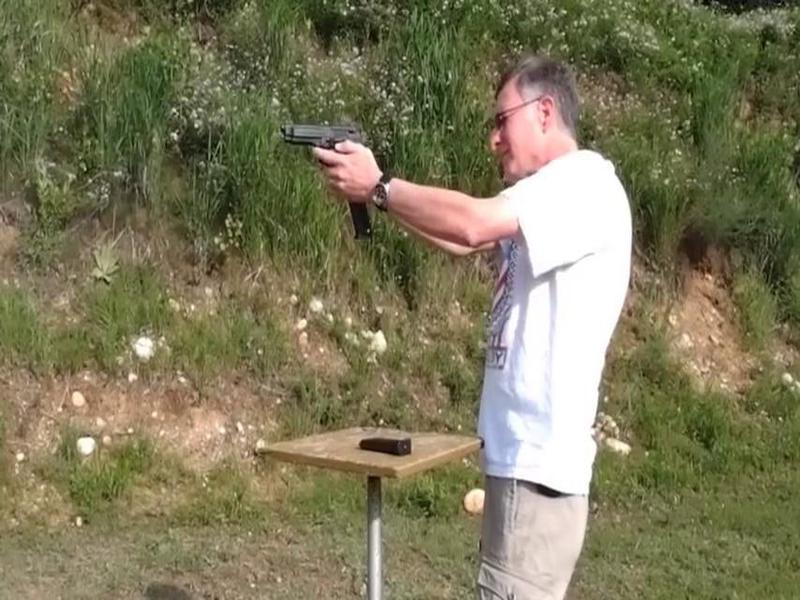Pistola: (262, 97, 369, 214)
